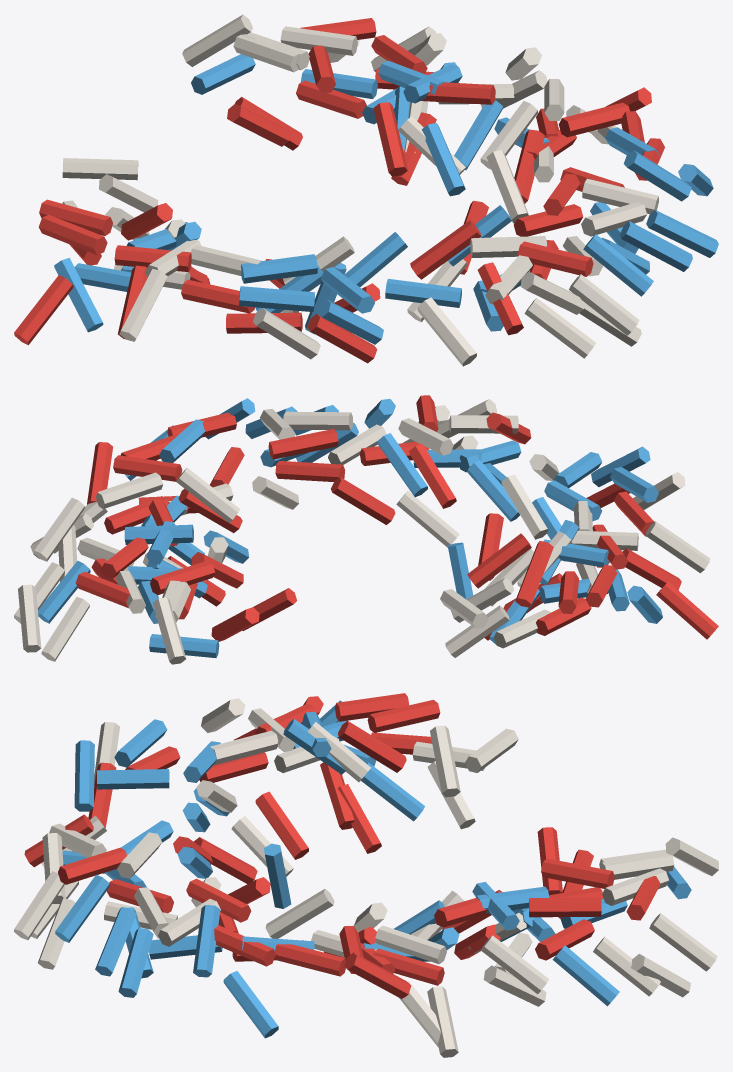
The model's file is lowpolydonut_sprinkles.glb.
3 renders of one model, top to bottom at view 1: azimuth 30°, elevation 25°; view 2: azimuth 150°, elevation 25°; view 3: azimuth 270°, elevation 25°, orthographic. The views are drawn at different scales.
Visible parts, largest first — view 1: Cylinder.087, Cylinder.080, Cylinder.062, Cylinder.169, Cylinder.066, Cylinder.085, Cylinder.086, Cylinder.051, Cylinder.166, Cylinder.046, Cylinder.164, Cylinder.090 (+66 smaller); view 2: Cylinder.092, Cylinder.064, Cylinder.101, Cylinder.051, Cylinder.057, Cylinder.168, Cylinder.004, Cylinder.175, Cylinder.089, Cylinder.017, Cylinder.088, Cylinder.006 (+80 smaller); view 3: Cylinder.016, Cylinder.006, Cylinder.071, Cylinder.111, Cylinder.012, Cylinder.004, Cylinder.020, Cylinder.048, Cylinder.049, Cylinder.097, Cylinder.100, Cylinder.069 (+69 smaller).
Boxes of the visible parts, x1,y1,x2,y2 form: Cylinder.087: (583,234,653,296); Cylinder.080: (569,274,639,335); Cylinder.062: (240,254,317,283); Cylinder.169: (524,298,595,358); Cylinder.066: (239,286,315,311); Cylinder.085: (410,220,481,279); Cylinder.086: (620,221,692,271); Cylinder.051: (14,275,73,345); Cylinder.166: (385,278,461,307); Cylinder.046: (62,158,138,180); Cylinder.164: (417,297,476,366); Cylinder.090: (646,210,718,257); Cylinder.092: (268,429,338,459); Cylinder.064: (467,533,531,588); Cylinder.101: (176,468,240,523); Cylinder.051: (656,581,718,639); Cylinder.057: (646,521,709,573); Cylinder.168: (396,491,459,547); Cylinder.004: (95,472,163,509); Cylinder.175: (275,461,345,481); Cylinder.089: (331,477,395,524); Cylinder.017: (18,584,41,652); Cylinder.088: (283,411,352,430); Cylinder.006: (34,498,84,561); Cylinder.016: (649,913,717,971); Cylinder.006: (480,935,548,994); Cylinder.071: (97,769,169,789); Cylinder.111: (552,945,619,1006); Cylinder.012: (529,897,601,917); Cylinder.004: (375,925,446,964); Cylinder.020: (541,858,614,888); Cylinder.048: (367,699,440,732); Cylinder.049: (338,720,406,772); Cylinder.097: (265,889,334,938); Cylinder.100: (275,944,345,976); Cylinder.069: (74,740,94,811).
Size of the model in its own units: 0.0626 by 0.0122 by 0.0582.
